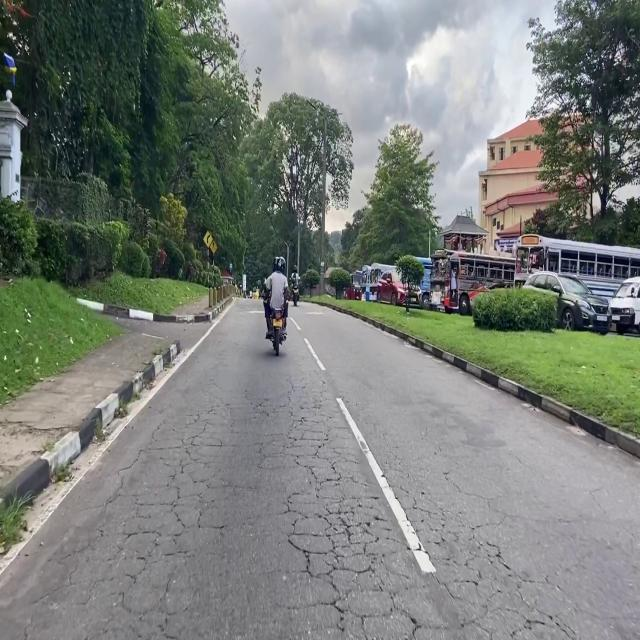bus: (514, 235, 640, 328), (430, 249, 515, 315), (369, 263, 395, 301), (418, 257, 432, 309), (362, 265, 371, 301)
car: (523, 271, 610, 334), (377, 271, 420, 306)
motorcycle: (272, 309, 286, 356), (293, 283, 299, 306)
person: (265, 257, 288, 345), (291, 265, 299, 289)
three wheeler: (346, 270, 362, 300)
van: (610, 277, 640, 334)
